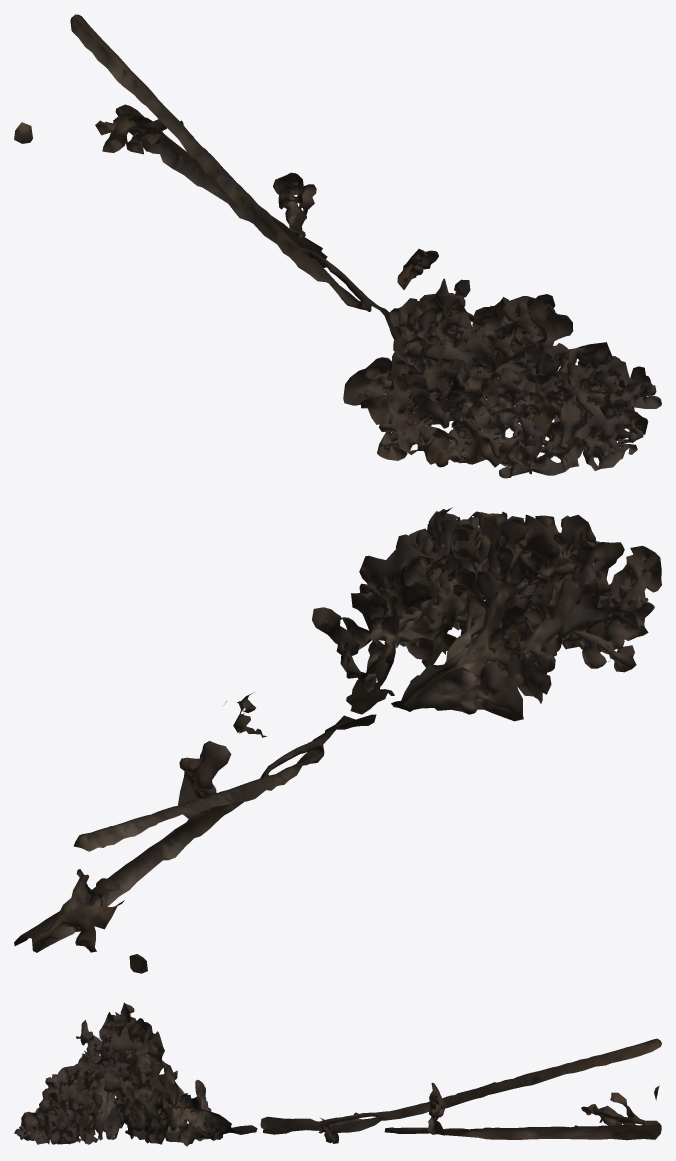
Rendered from tree_mesh.dae.
The picture shows the model from 3 angles, top to bottom: view 1: azimuth 30°, elevation 25°; view 2: azimuth 150°, elevation 25°; view 3: azimuth 270°, elevation 25°; orthographic projection. The views are drawn at different scales.
Visible parts, largest first — view 1: node0; view 2: node0; view 3: node0.
Part boxes in pixels (bbox=[...]): node0: bbox=[14, 14, 661, 478]; node0: bbox=[14, 507, 661, 973]; node0: bbox=[14, 1002, 661, 1146].
Size of the model in its own units: 8.57 by 5.02 by 28.65.
